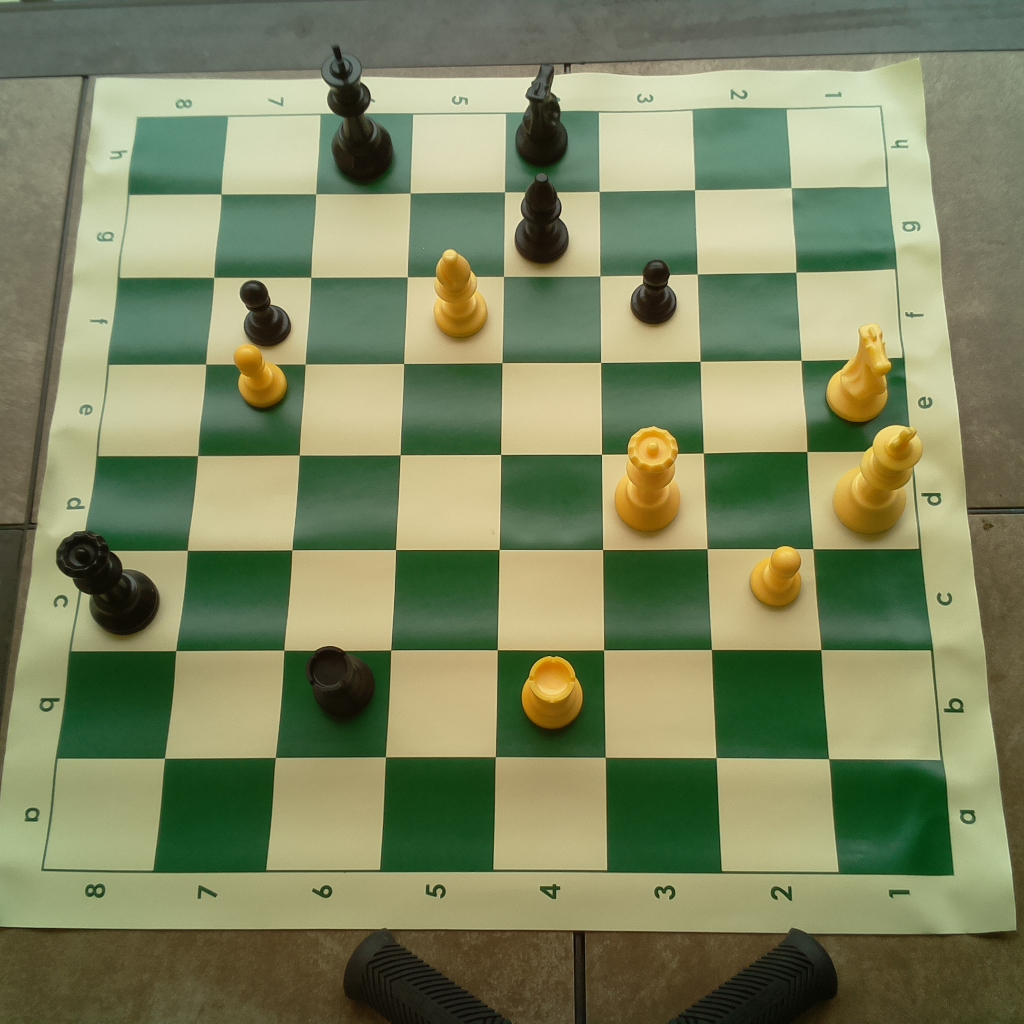black_bishop: (512, 171, 573, 265)
black_king: (314, 38, 398, 180)
black_knight: (507, 64, 575, 169)
black_pawn: (232, 271, 298, 344), (628, 253, 681, 322)
black_queen: (50, 523, 168, 638)
black_rook: (302, 638, 381, 722)
file_a: (41, 757, 955, 877)
file_b: (55, 653, 941, 761)
file_c: (68, 549, 936, 648)
file_d: (83, 449, 919, 547)
file_e: (98, 357, 915, 452)
file_f: (107, 271, 902, 360)
file_g: (116, 186, 896, 280)
file_h: (129, 104, 889, 193)
outline: (40, 106, 953, 877)
rank_1: (788, 108, 953, 875)
rank_2: (694, 108, 840, 873)
rank_3: (599, 109, 724, 871)
rank_4: (494, 112, 608, 870)
rank_5: (380, 112, 505, 873)
rank_6: (262, 113, 411, 873)
rank_7: (153, 113, 320, 877)
rank_8: (41, 115, 227, 871)
white_bishop: (428, 247, 490, 340)
white_king: (833, 419, 924, 545)
white_knight: (821, 319, 892, 427)
white_pawn: (224, 336, 290, 410), (747, 541, 810, 610)
white_queen: (611, 421, 685, 532)
white_rook: (515, 654, 589, 734)
